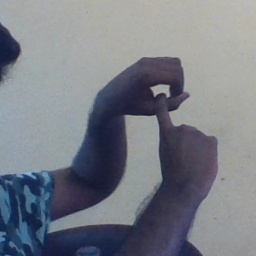Q: (103, 53, 222, 180)
